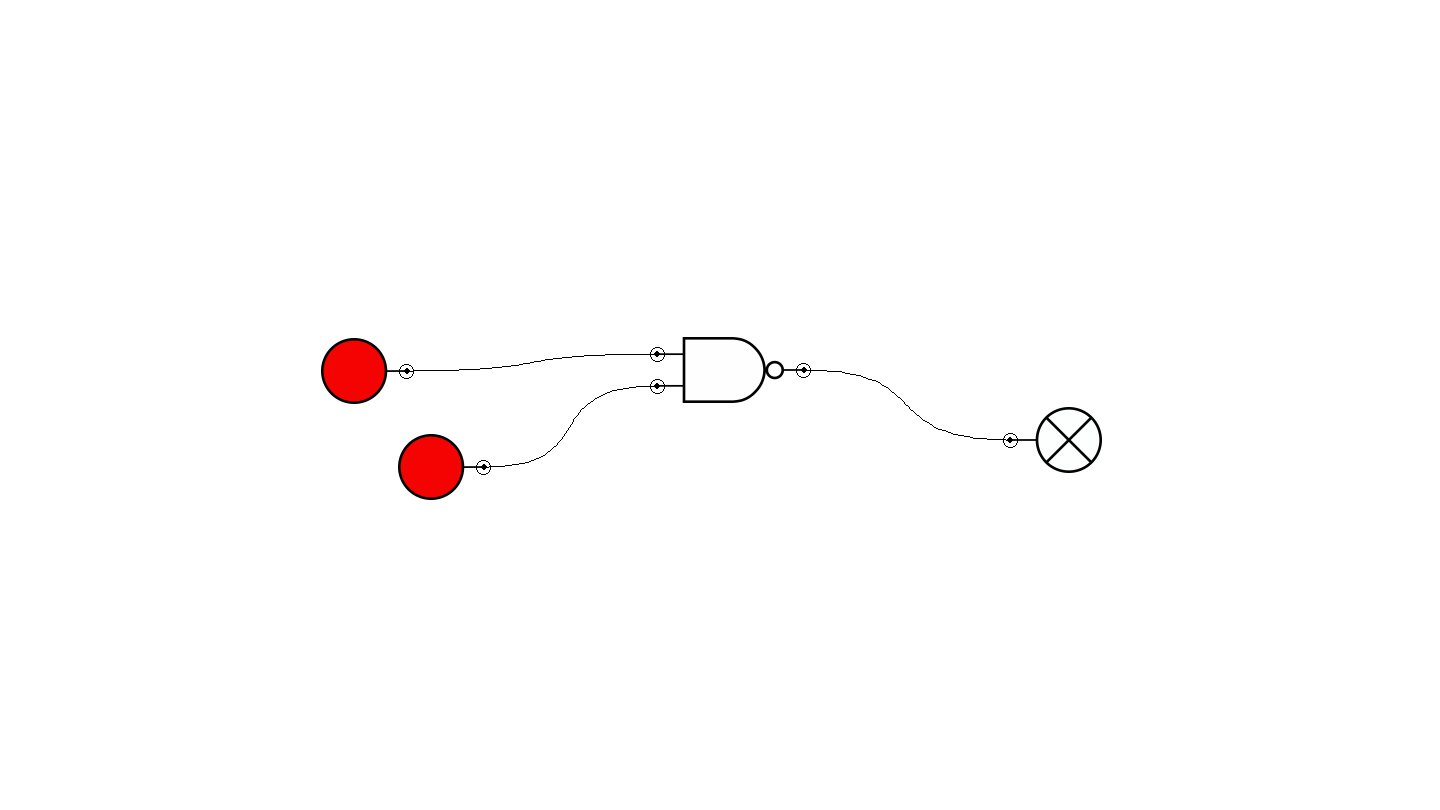bulb: (1003, 407, 1102, 473)
nand: (650, 337, 811, 403)
switch_False: (321, 338, 414, 404), (398, 434, 491, 500)
